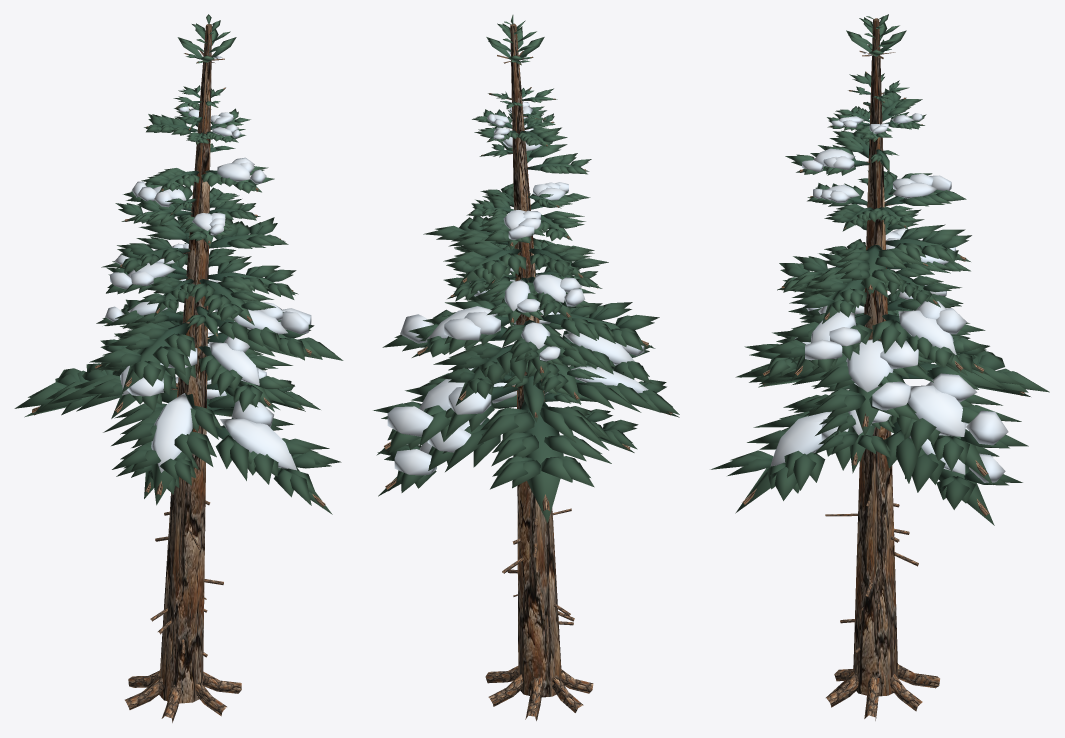
File: tree16.glb
3 views of the same model, side by side, from view 1: azimuth 30°, elevation 25°; view 2: azimuth 150°, elevation 25°; view 3: azimuth 270°, elevation 25° (orthographic). The views are drawn at different scales.
Parts seen in each view (by area): view 1: Alpine16_1 (×2), Alpine16_0 (×2), Alpine16_2 (×2); view 2: Alpine16_1 (×2), Alpine16_0 (×2), Alpine16_2 (×2); view 3: Alpine16_1 (×2), Alpine16_2 (×2), Alpine16_0 (×2).
Part boxes in pixels (x1,y1,x2,y2): Alpine16_1 (×2): (14,14,343,514); Alpine16_0 (×2): (32,24,325,722); Alpine16_2 (×2): (105,55,311,472); Alpine16_1 (×2): (373,15,679,522); Alpine16_0 (×2): (384,23,672,720); Alpine16_2 (×2): (387,51,648,475); Alpine16_1 (×2): (710,14,1049,525); Alpine16_2 (×2): (770,52,1008,482); Alpine16_0 (×2): (742,18,1024,720).
Bounding box in the file's own units: 6.3 × 16.39 × 7.26.
Materials: 6 (2 with a texture image).
